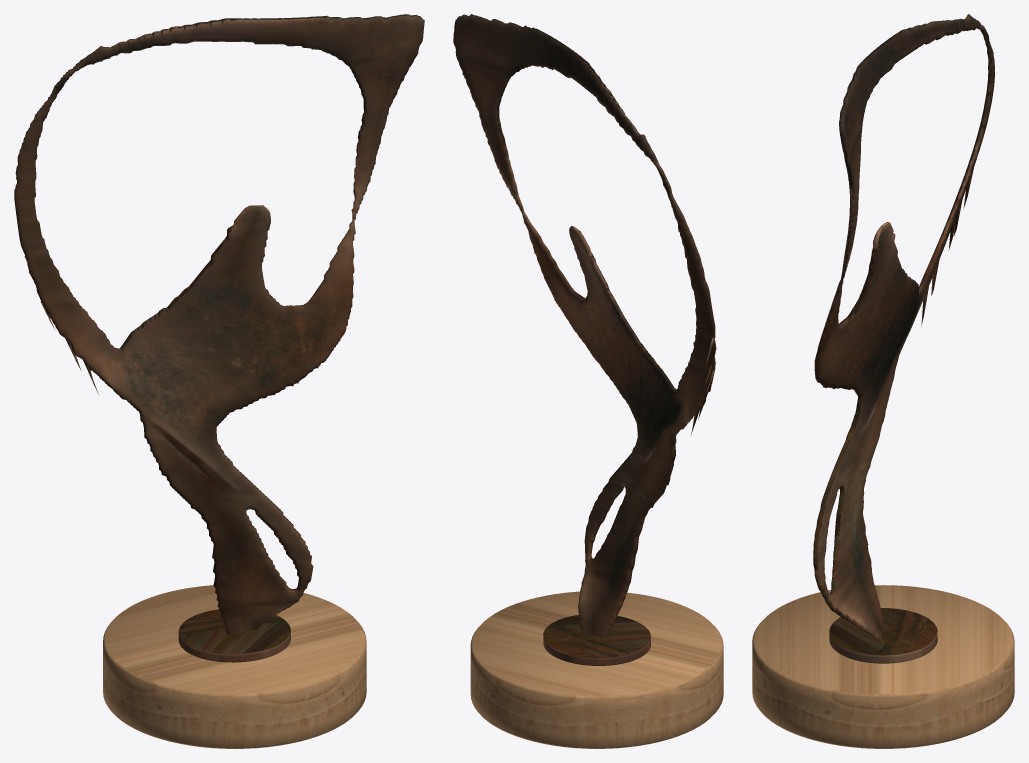
The model's file is hy3d-esc-053.glb.
The picture shows the model from 3 angles, left to right: view 1: azimuth 30°, elevation 25°; view 2: azimuth 150°, elevation 25°; view 3: azimuth 270°, elevation 25°; orthographic projection. The views are drawn at different scales.
Visible parts, largest first — view 1: world; view 2: world; view 3: world.
Boxes of the visible parts, x1=… form: world: x1=14, y1=14, x2=424, y2=748; world: x1=453, y1=14, x2=723, y2=748; world: x1=752, y1=14, x2=1014, y2=748.
Bounding box in the file's own units: 0.3165 × 0.5992 × 0.2142.
Materials: 1 (1 with a texture image).
